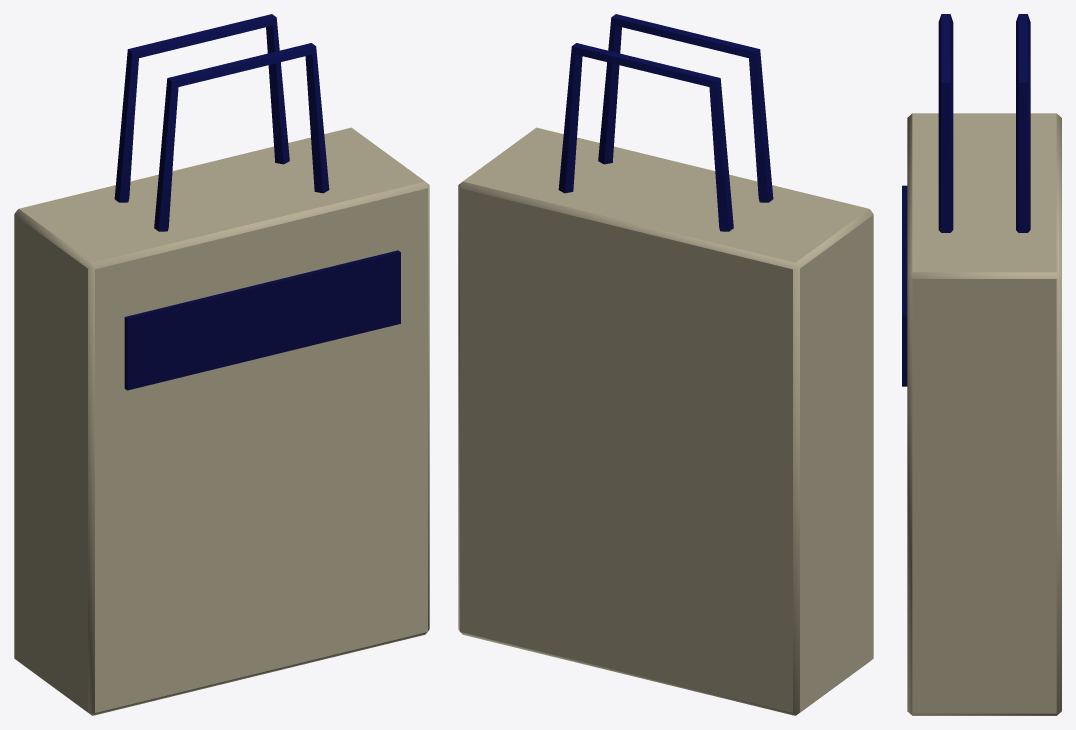
The model's file is mall-shopping-bag.glb.
The picture shows the model from 3 angles, left to right: view 1: azimuth 30°, elevation 25°; view 2: azimuth 150°, elevation 25°; view 3: azimuth 270°, elevation 25°; orthographic projection. The views are drawn at different scales.
Visible parts, largest first — view 1: bag__paper, handles__fabric; view 2: bag__paper, handles__fabric; view 3: bag__paper, handles__fabric.
Boxes of the visible parts, box(x1,y1,x2,y2) form: bag__paper: box(14, 127, 429, 715); handles__fabric: box(114, 14, 329, 231); bag__paper: box(458, 127, 873, 715); handles__fabric: box(558, 14, 773, 231); bag__paper: box(902, 113, 1061, 715); handles__fabric: box(938, 14, 1030, 232).
Size of the model in its own units: 0.3 by 0.5036 by 0.124.
